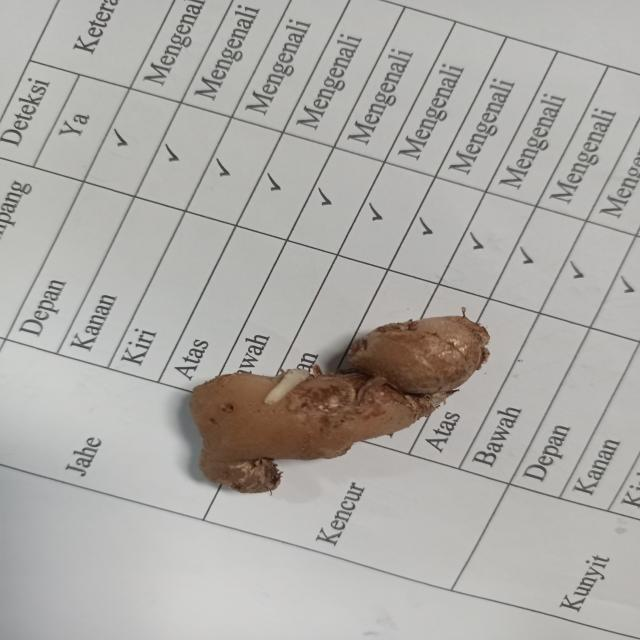ginger: (196, 318, 484, 482)
